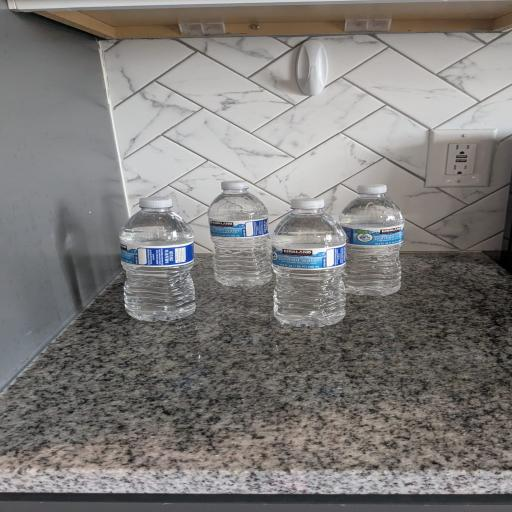waterbottle: (120, 197, 195, 321), (272, 199, 345, 326), (340, 185, 404, 295), (208, 181, 271, 286)
